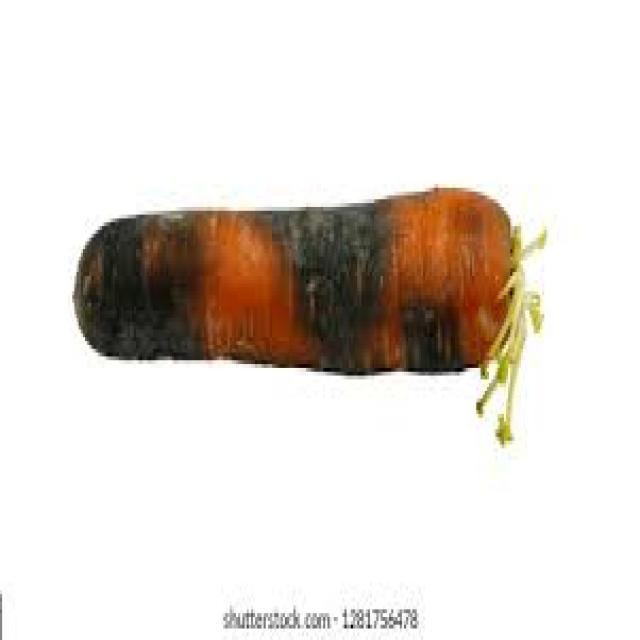Stale_Carrot: (58, 159, 540, 408)
